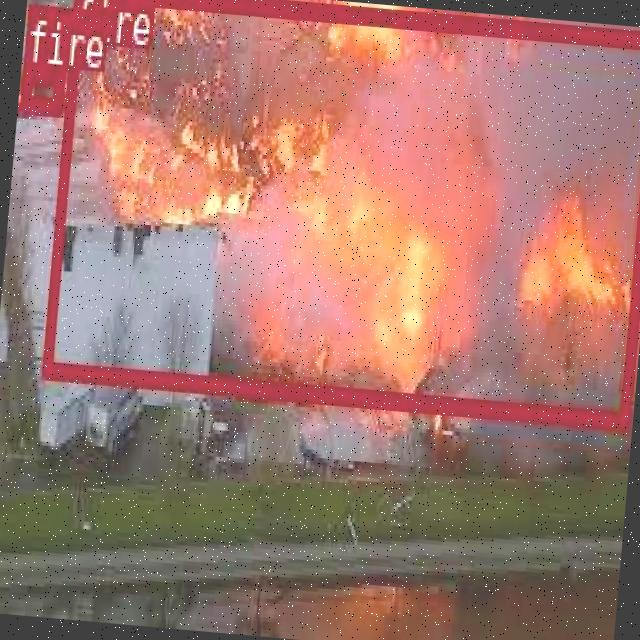fire: (40, 0, 640, 426), (18, 61, 64, 110)
